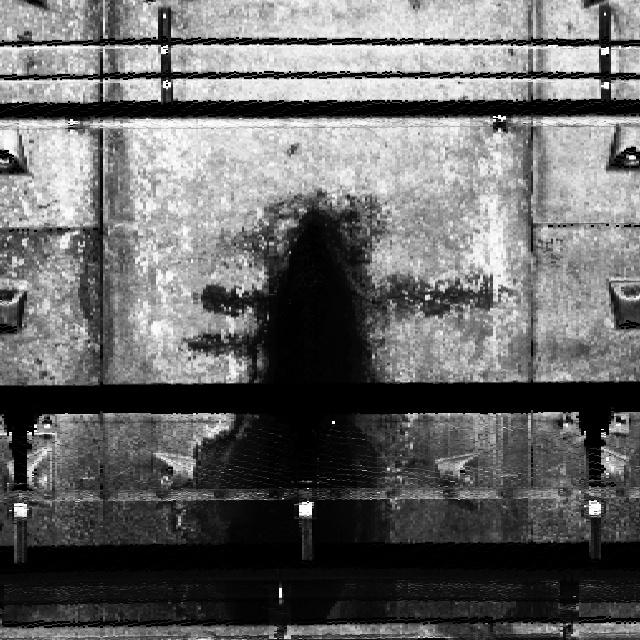leakage: (157, 176, 446, 639)
